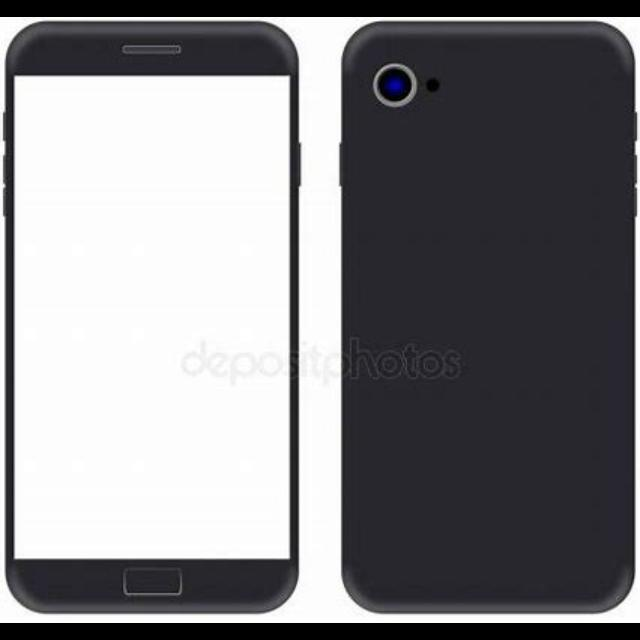Smartphone: (3, 19, 300, 618)
